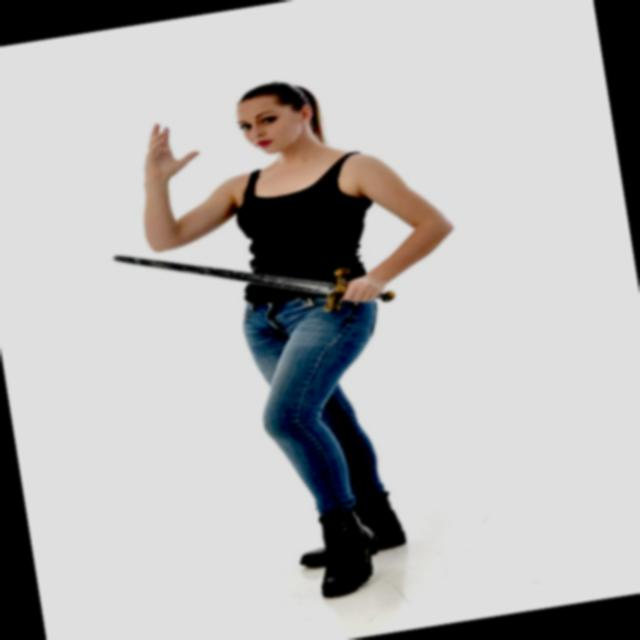long sword: (111, 205, 398, 352)
